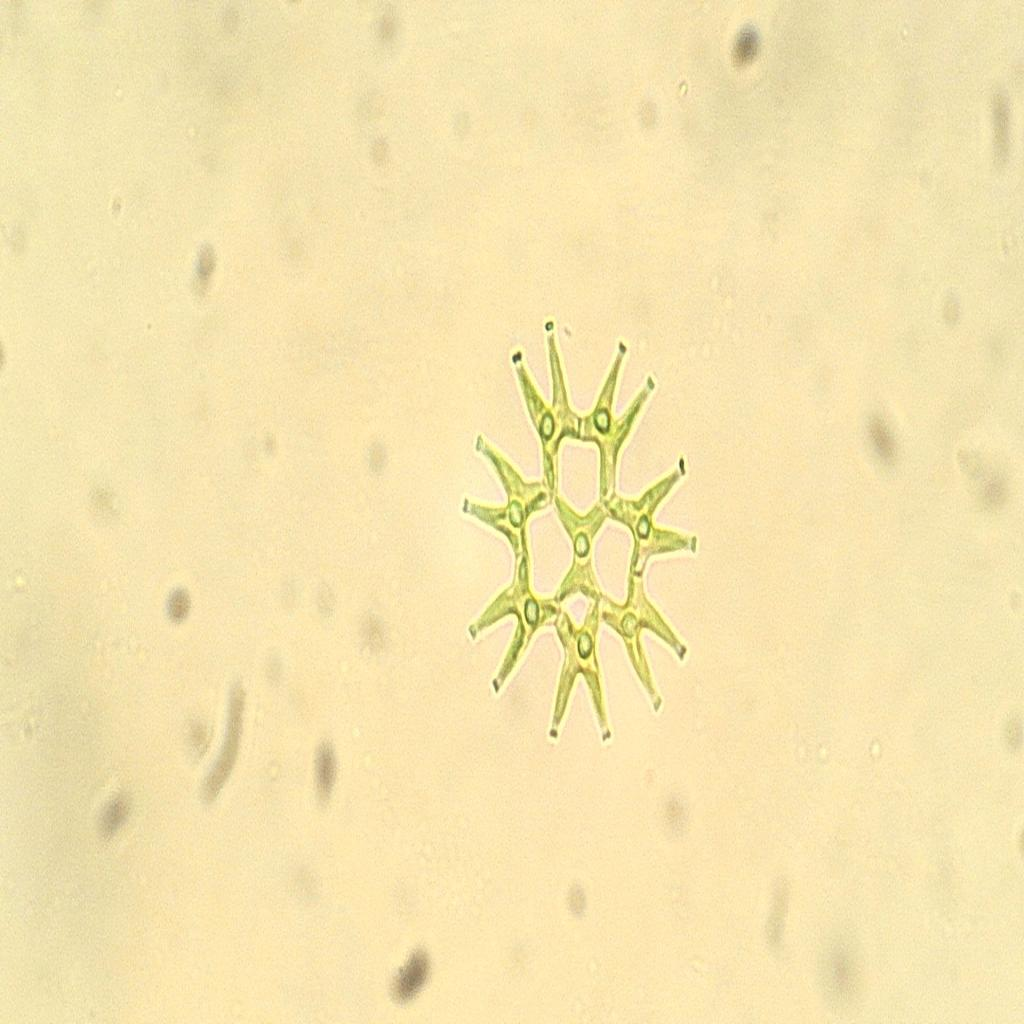Pediastrum_75T: (450, 288, 715, 802)
